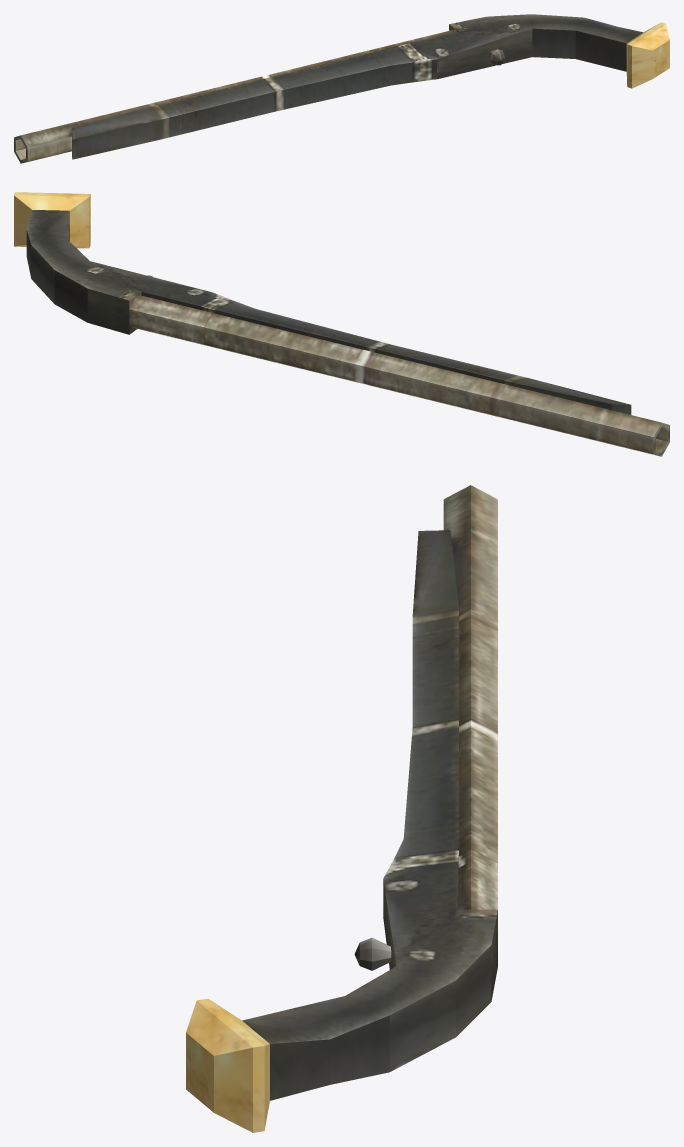
File: ps1_-_cossack_lock_pistol.glb
The picture shows the model from 3 angles, top to bottom: view 1: azimuth 30°, elevation 25°; view 2: azimuth 150°, elevation 25°; view 3: azimuth 270°, elevation 25°; orthographic projection. The views are drawn at different scales.
Parts seen in each view (by area): view 1: Cossack-lock-pistol-1810_Material #26_0; view 2: Cossack-lock-pistol-1810_Material #26_0; view 3: Cossack-lock-pistol-1810_Material #26_0.
Part boxes in pixels (<box>): Cossack-lock-pistol-1810_Material #26_0: <box>14,14,669,163</box>; Cossack-lock-pistol-1810_Material #26_0: <box>14,192,669,456</box>; Cossack-lock-pistol-1810_Material #26_0: <box>186,485,497,1132</box>.
Size of the model in its own units: 0.4347 by 0.03 by 0.0994.
Materials: 2 (2 with a texture image).
